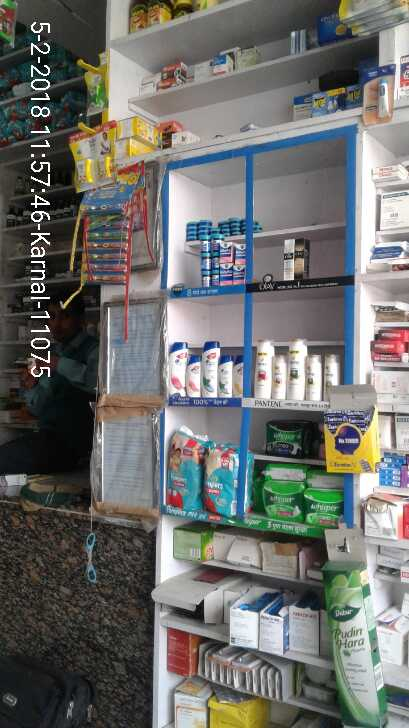beauty: (253, 336, 272, 401), (168, 337, 188, 398), (286, 338, 305, 402), (319, 349, 339, 401), (187, 350, 204, 402), (215, 353, 234, 396), (203, 341, 218, 395), (305, 354, 321, 404), (293, 238, 311, 274), (272, 356, 285, 399), (281, 240, 293, 280), (234, 354, 245, 396)
pharmacy: (197, 438, 237, 517), (163, 433, 200, 515), (255, 476, 301, 522), (261, 424, 306, 453), (307, 489, 338, 522), (218, 259, 233, 286), (182, 217, 194, 244), (233, 262, 247, 284), (215, 221, 230, 238), (196, 219, 208, 237), (230, 217, 242, 235), (200, 251, 211, 269), (221, 242, 231, 260), (200, 268, 209, 286)
